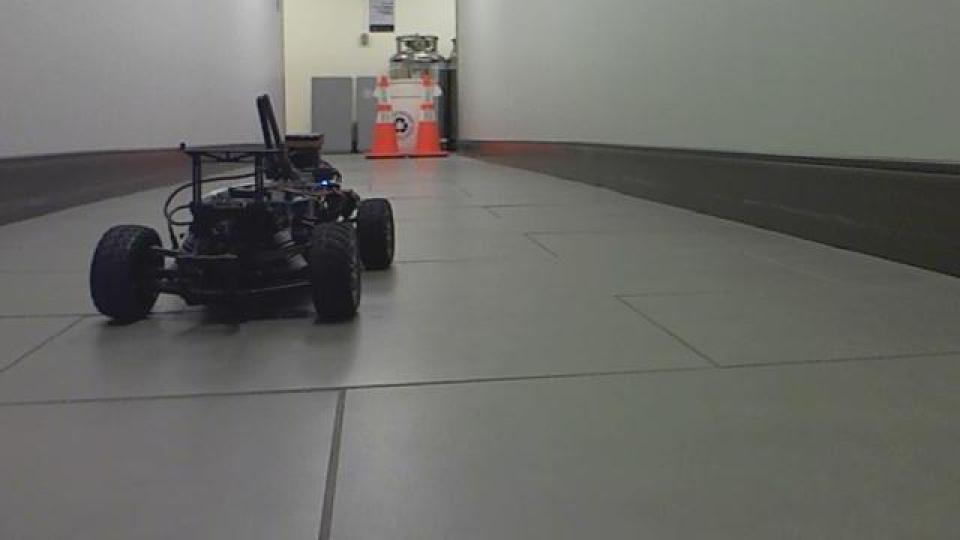car: (86, 92, 398, 332)
